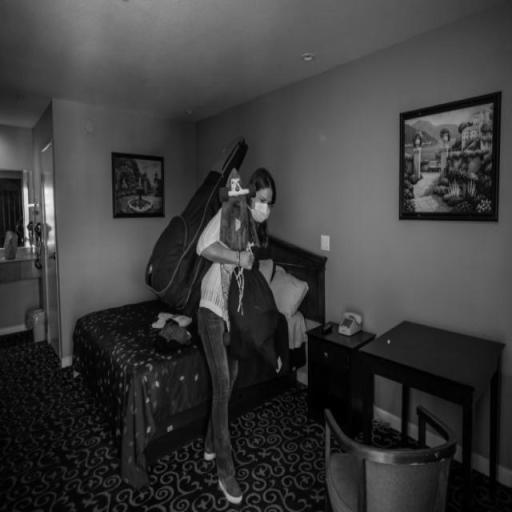Persona: (194, 168, 276, 505)
